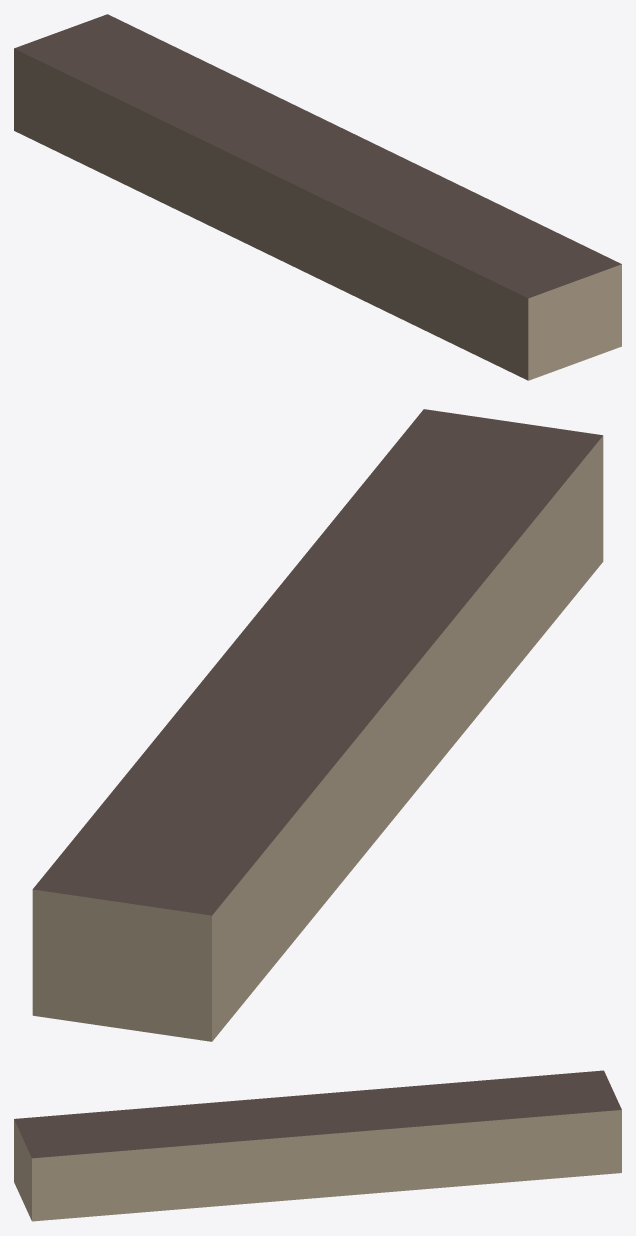
3 renders of one model, top to bottom at view 1: azimuth 30°, elevation 25°; view 2: azimuth 150°, elevation 25°; view 3: azimuth 270°, elevation 25°, orthographic. The views are drawn at different scales.
Parts seen in each view (by area): view 1: HP-w1376988693; view 2: HP-w1376988693; view 3: HP-w1376988693.
Boxes of the visible parts, left/top/right/bottom form: HP-w1376988693: left=14, top=14, right=621, bottom=380; HP-w1376988693: left=32, top=409, right=603, bottom=1041; HP-w1376988693: left=14, top=1070, right=621, bottom=1221.
Bounding box in the file's own units: 17.91 × 6 × 52.37.
